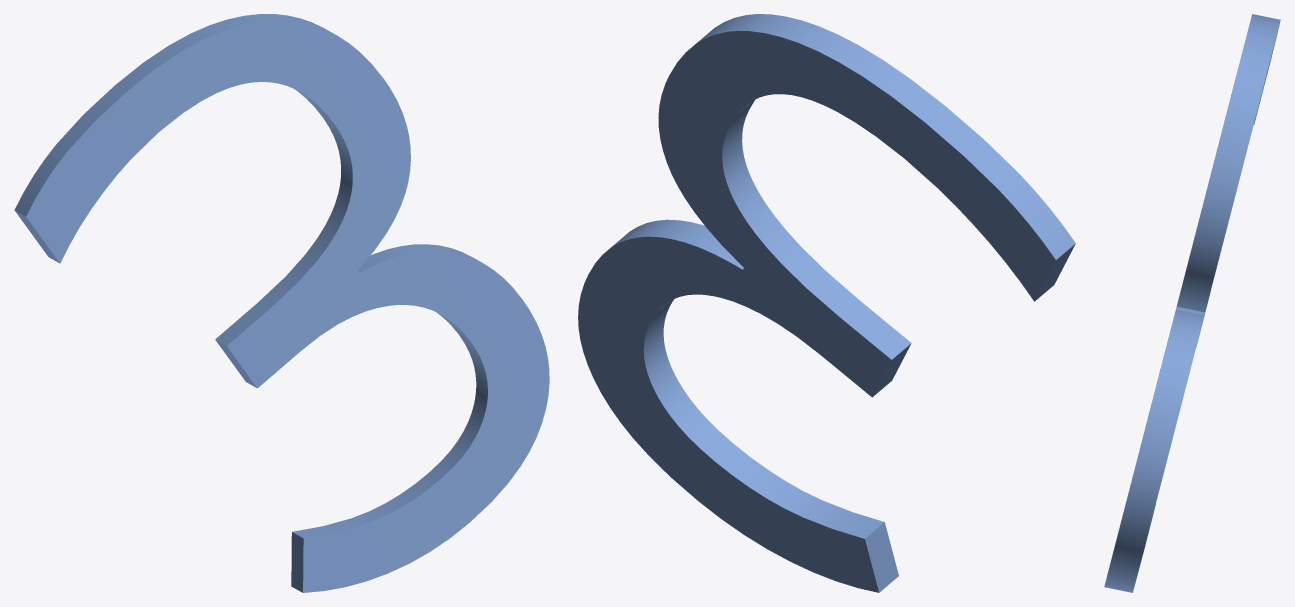
File: New_Number_3.gltf
3 renders of one model, left to right at view 1: azimuth 30°, elevation 25°; view 2: azimuth 150°, elevation 25°; view 3: azimuth 270°, elevation 25°, orthographic. The views are drawn at different scales.
Visible parts, largest first — view 1: Part 480; view 2: Part 480; view 3: Part 480.
Part boxes in pixels (bbox=[...]): Part 480: bbox=[14, 14, 549, 592]; Part 480: bbox=[578, 14, 1075, 592]; Part 480: bbox=[1104, 14, 1280, 592].
Size of the model in its own units: 0.00469 by 0.00503 by 0.00154.
